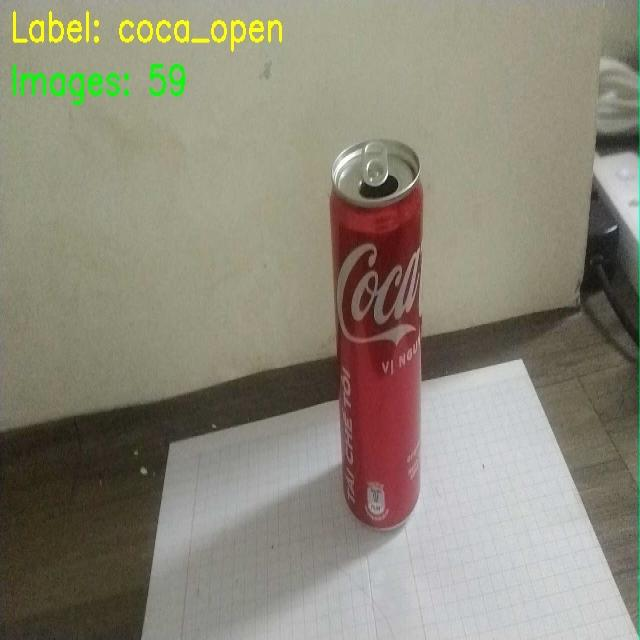Coca_open: (317, 128, 441, 526)
